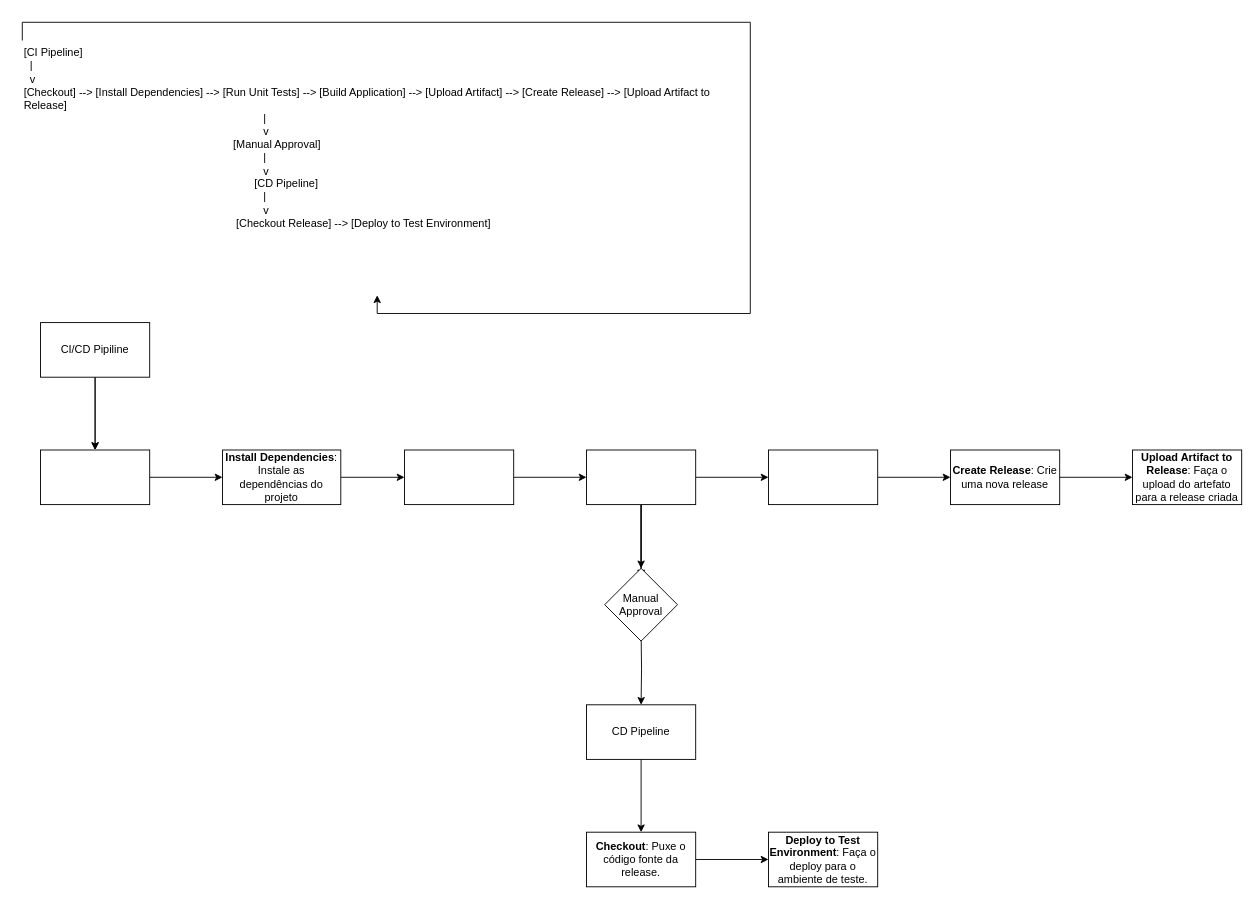
The diagram is 1258 pixels wide and 903 high, and some of its shapes have lost their labels. The shapes that lost their labels are listed below. From the top down, each one's box as (x1, y1, x2, y2) in pixels, then its label:
(40, 449, 150, 505): Checkout : Puxe o código fonte do repositório
(404, 449, 514, 505): Run Unit Tests : Execute os testes unitários
(586, 449, 696, 505): Build Application : Construa a aplicação
(768, 449, 878, 505): Upload Artifact : Faça o upload do artefato gerado
